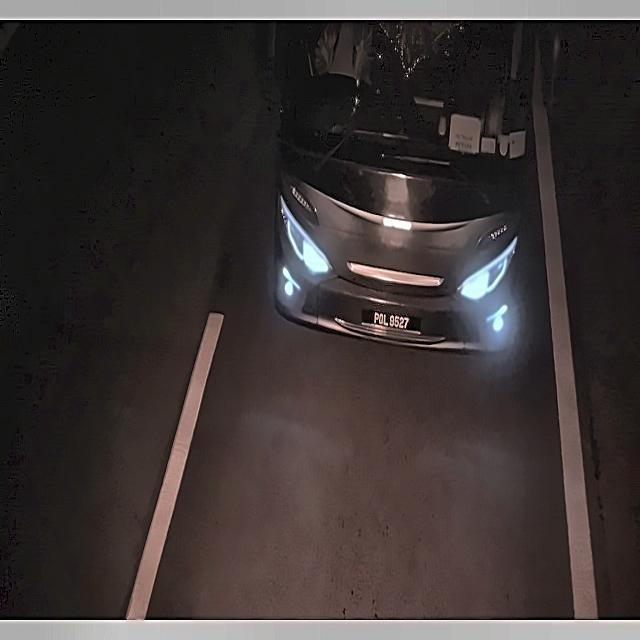car: (357, 299, 422, 338)
